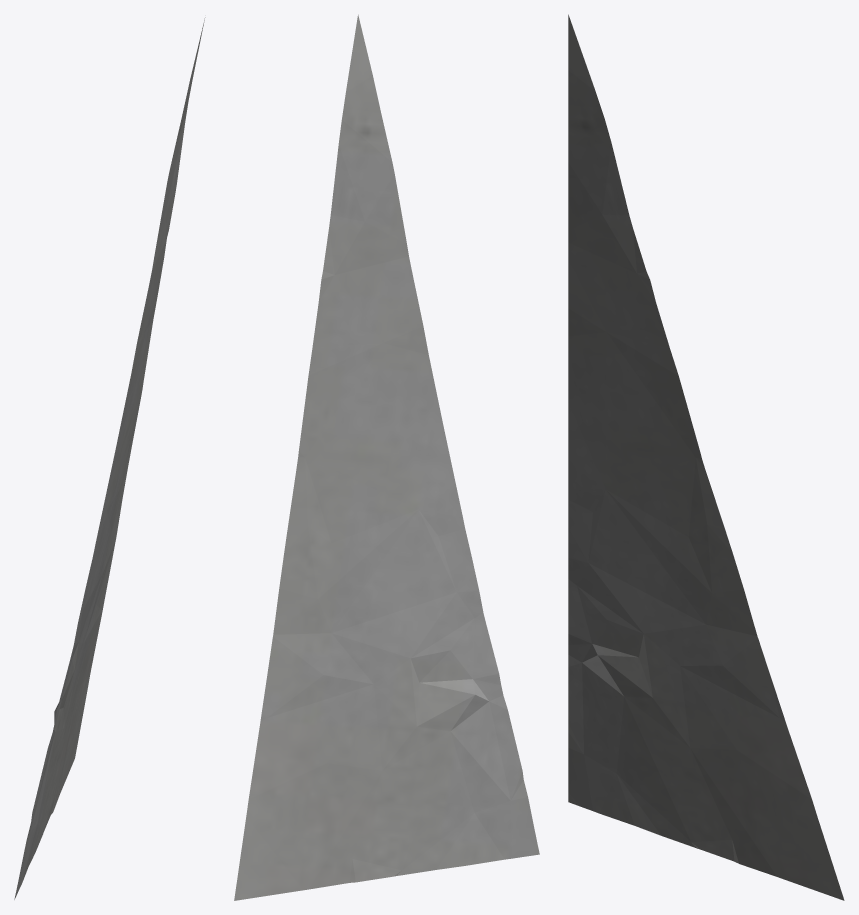
The picture shows the model from 3 angles, left to right: view 1: azimuth 30°, elevation 25°; view 2: azimuth 150°, elevation 25°; view 3: azimuth 270°, elevation 25°; orthographic projection. The views are drawn at different scales.
Size of the model in its own units: 0.2941 by 1.23 by 0.3475.
Materials: 1 (1 with a texture image).
